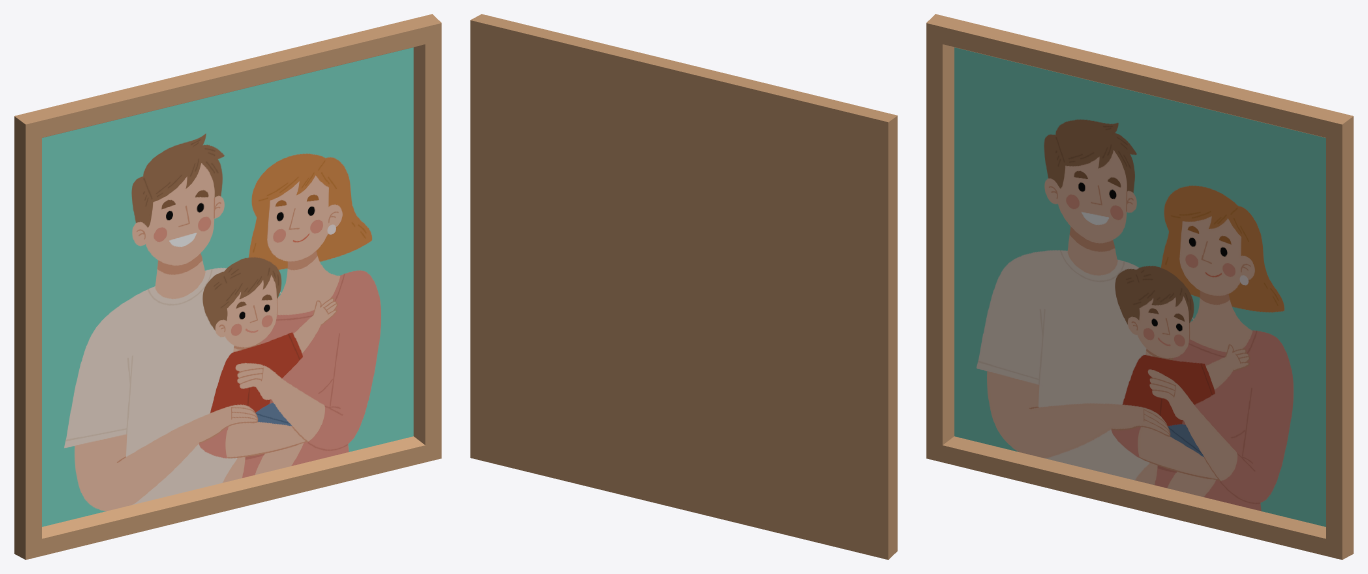
The model's file is cerceve2.fbx.
3 renders of one model, left to right at view 1: azimuth 30°, elevation 25°; view 2: azimuth 150°, elevation 25°; view 3: azimuth 330°, elevation 25°, orthographic.
Visible parts, largest first — view 1: Cube.038; view 2: Cube.038; view 3: Cube.038.
Part boxes in pixels (bbox=[...]): Cube.038: bbox=[14, 14, 441, 559]; Cube.038: bbox=[470, 14, 897, 559]; Cube.038: bbox=[926, 14, 1353, 559].
Size of the model in its own units: 200 by 8.63 by 200.
